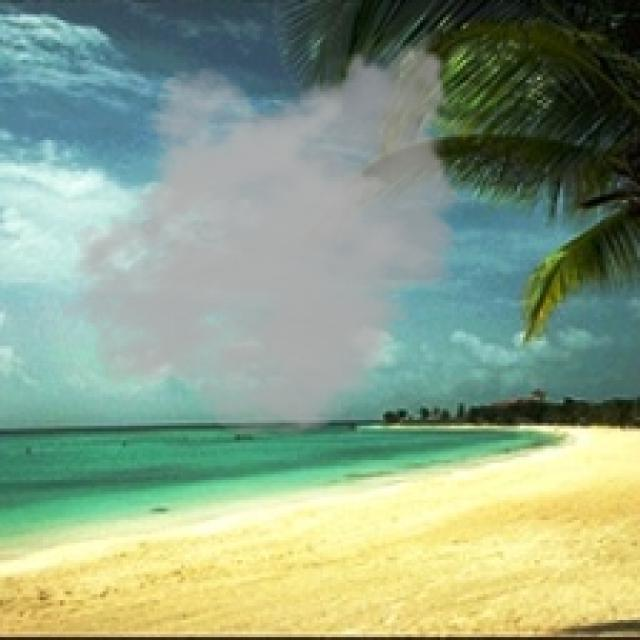Smoke: (57, 26, 472, 437)
